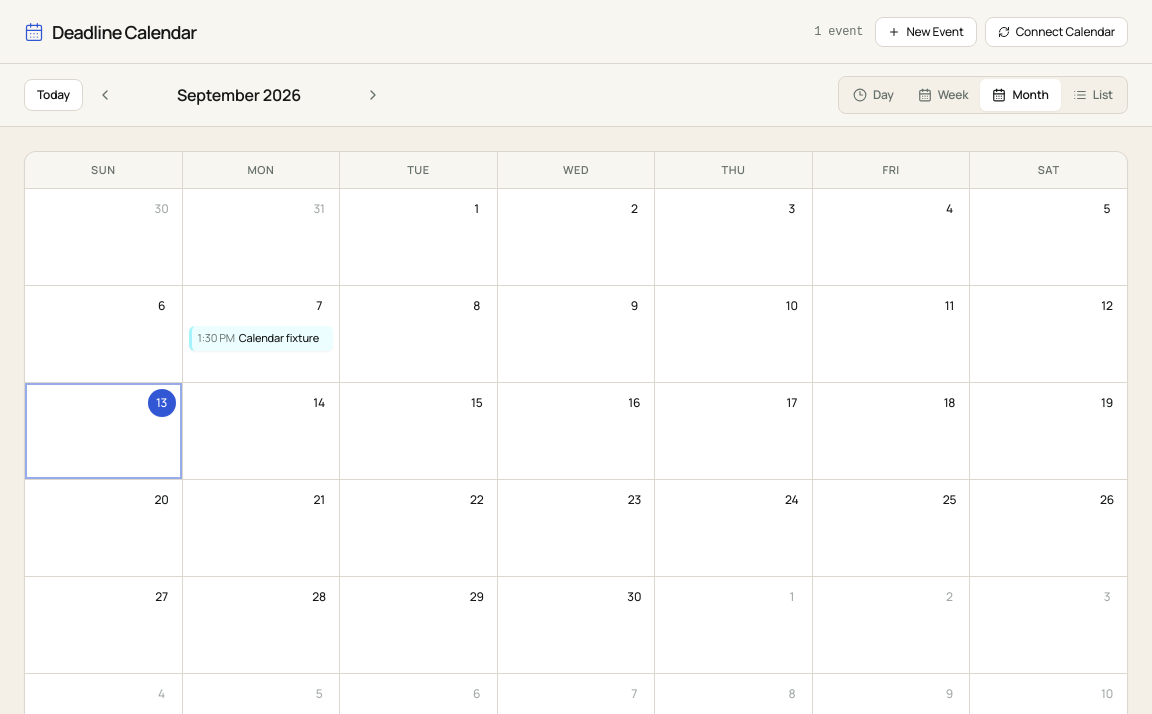
scheduled calendar event details › keeps the provider detail link and removes the displayed event after a successful delete
Click the button "Calendar fixture" at (261, 338), box top-left (189, 326), bottom-right (333, 350)
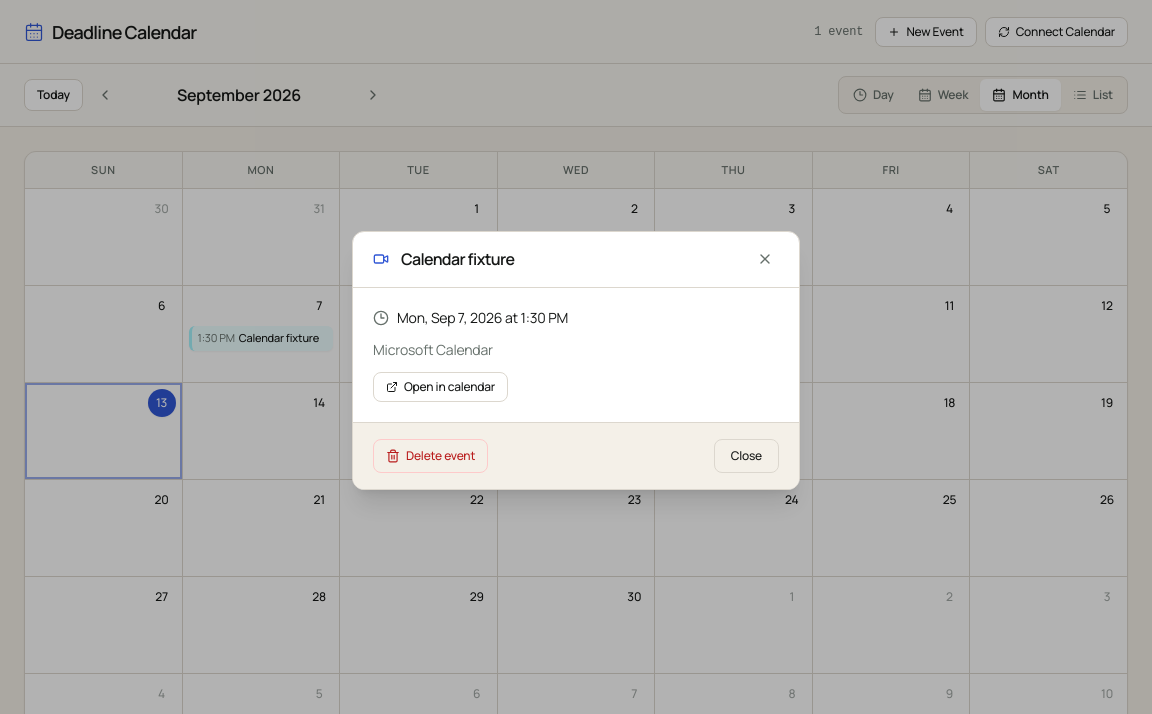
Click the button "Delete event" at (431, 456), box top-left (373, 438), bottom-right (488, 472)
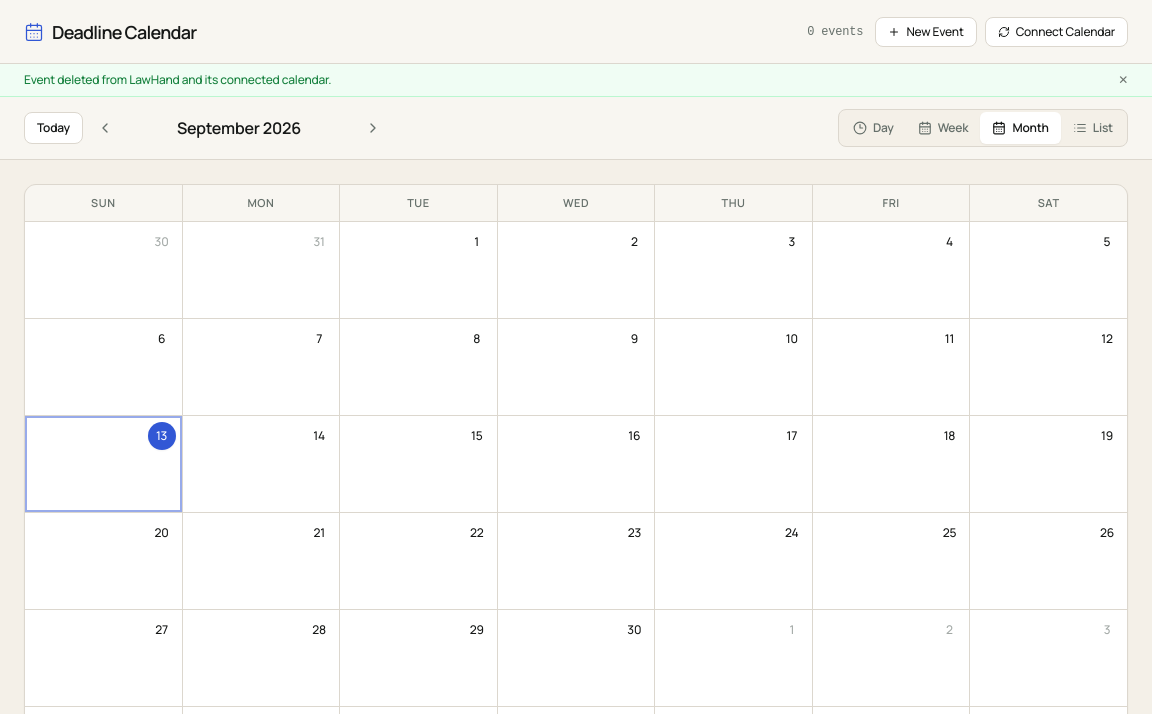
Now the text "Event deleted from LawHand and its connected calendar." is shown, box top-left (24, 72), bottom-right (331, 88)
Now the dialog is gone
Now the button "Calendar fixture" is gone
